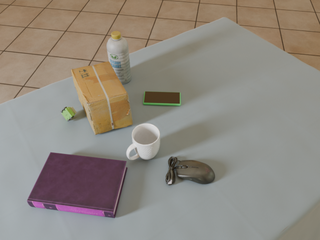book: (27, 152, 127, 218)
bottle: (107, 31, 131, 84)
box: (71, 61, 133, 135)
cup: (127, 124, 160, 160)
mouse: (166, 157, 215, 185)
phone: (143, 92, 180, 106)
toy_car: (61, 107, 76, 121)
